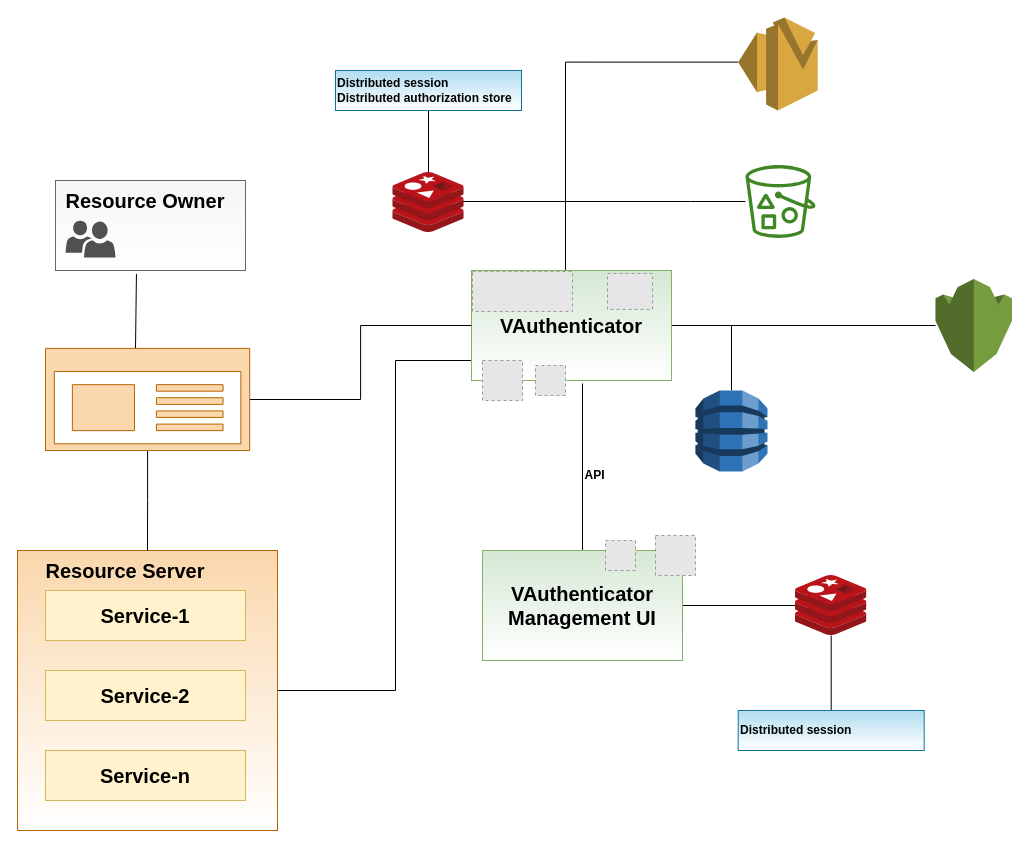
Image size: 1030x848. Some labels were removed from this diagram. Grey dashed boxes stand in for pictures. The shapes that lost their labels are listed below. From the top down, each one's centre as x and y in pixels, then its label:
At point (777, 63): "SES (mail communication)".
At point (780, 201): "document bucket".
At point (973, 325): "AWS KMS".
At point (147, 398): "Client Application".
